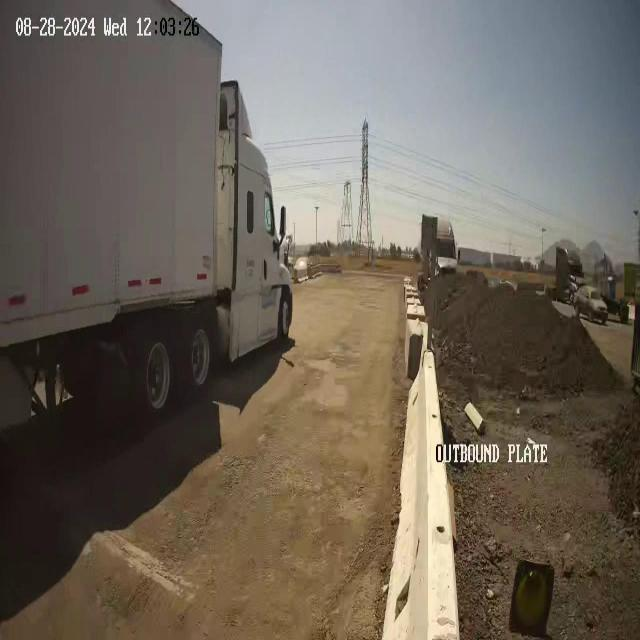TRUCK_CONTAINER: (1, 1, 293, 432)
